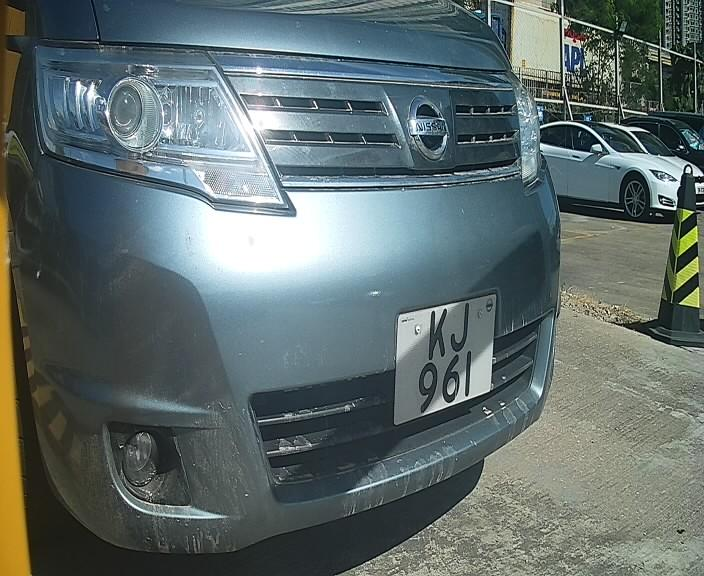Car: (26, 3, 595, 576)
License Plate: (393, 289, 500, 427)
